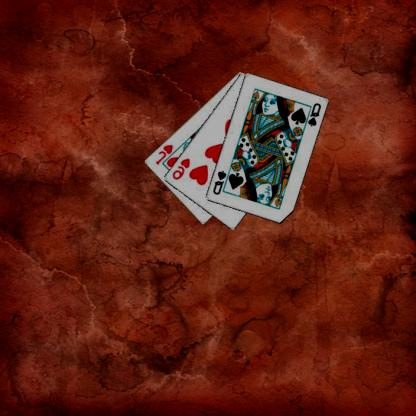9H: (171, 156, 193, 181)
JH: (155, 142, 175, 165)
QS: (306, 101, 324, 128), (212, 168, 229, 196)
